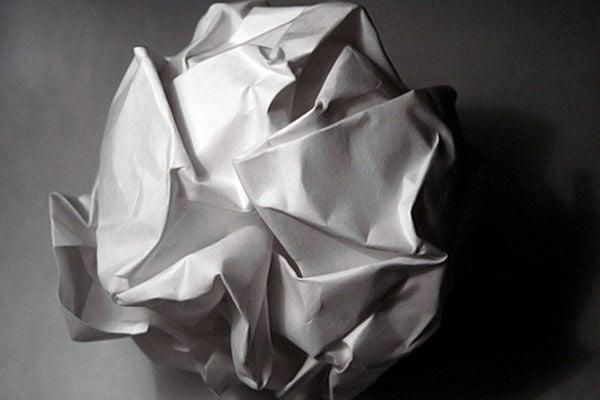paper: (47, 0, 474, 400)
